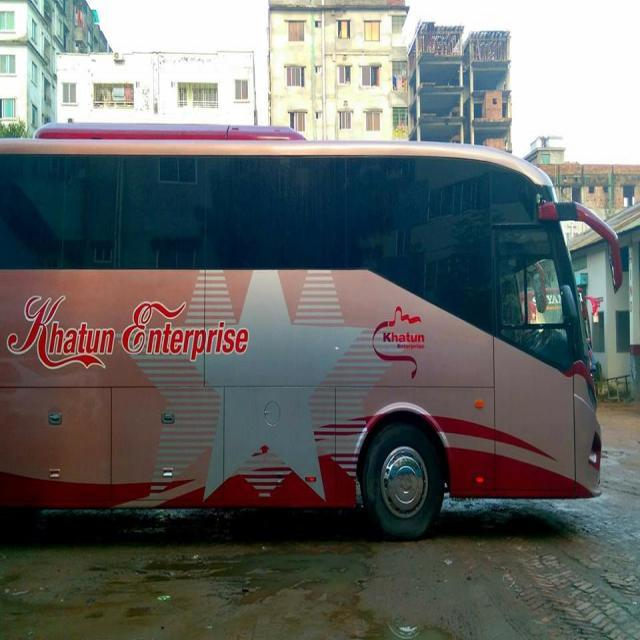bus: (0, 119, 625, 544)
